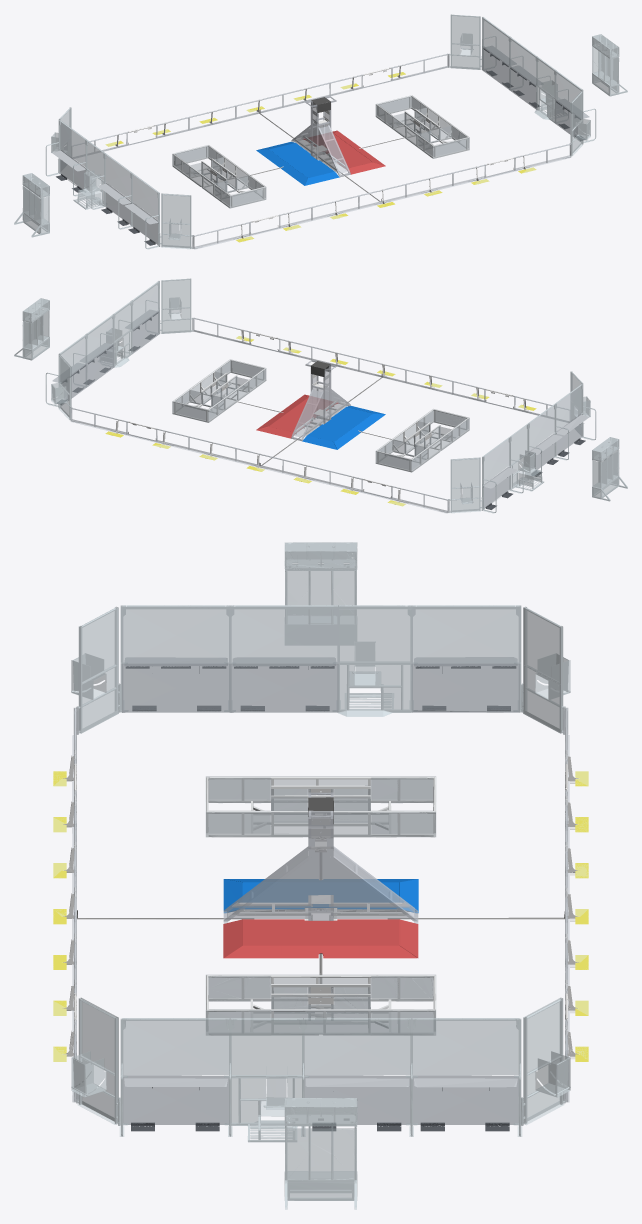
File: field-2018-2Xk3P7I0.glb
3 views of the same model, one above another, from view 1: azimuth 30°, elevation 25°; view 2: azimuth 150°, elevation 25°; view 3: azimuth 270°, elevation 25° (orthographic). The views are drawn at different scales.
Parts seen in each view (by area): view 1: GE-18004_Red, GE-18004_Blue, GE-18024, FE-00012 (×2), FE-00005-04, FE-00004-01, GE-18075, GE-18022, GE-18061_Blue, GE-18061_Red, FE-00004-06, FE-00050 (+3 smaller); view 2: GE-18004_Red, GE-18004_Blue, GE-18024, FE-00012 (×2), FE-00005-04, GE-18075, FE-00004-01, GE-18022, GE-18061_Blue, GE-18061_Red, FE-00004-06, FE-00050 (+3 smaller); view 3: FE-00012 (×2), FE-00004-01, GE-18004_Blue, GE-18004_Red, GE-18024, GE-18075, GE-18022, GE-18061_Red, FE-00004-06, GE-18061_Blue, FE-00015, FE-00005-04 (+4 smaller).
Boxes of the visible parts, x1,y1,x2,y2 form: GE-18004_Red: (14, 107, 193, 249); GE-18004_Blue: (448, 14, 627, 156); GE-18024: (172, 95, 469, 208); FE-00012 (×2): (60, 18, 581, 219); FE-00005-04: (72, 53, 571, 249); FE-00004-01: (60, 46, 580, 244); GE-18075: (173, 95, 469, 208); GE-18022: (291, 96, 350, 177); GE-18061_Blue: (256, 142, 339, 185); GE-18061_Red: (303, 130, 385, 174); FE-00004-06: (52, 46, 589, 224); FE-00050: (114, 64, 527, 241); GE-18004_Red: (448, 371, 627, 513); GE-18004_Blue: (14, 278, 193, 420); GE-18024: (172, 359, 469, 472); FE-00012 (×2): (60, 282, 581, 483); FE-00005-04: (70, 317, 569, 513); GE-18075: (172, 359, 468, 472); FE-00004-01: (61, 310, 581, 508); GE-18022: (291, 360, 350, 441); GE-18061_Blue: (302, 406, 385, 449); GE-18061_Red: (256, 394, 338, 438); FE-00004-06: (52, 309, 589, 488); FE-00050: (111, 328, 528, 504); FE-00012 (×2): (122, 607, 519, 1075); FE-00004-01: (122, 663, 519, 1124); GE-18004_Blue: (71, 997, 570, 1209); GE-18004_Red: (71, 542, 570, 734); GE-18024: (205, 776, 436, 1035); GE-18075: (206, 777, 435, 1035); GE-18022: (223, 792, 418, 923); GE-18061_Red: (223, 919, 418, 958); FE-00004-06: (124, 657, 517, 1087); GE-18061_Blue: (223, 879, 418, 913); FE-00015: (53, 771, 588, 1061); FE-00005-04: (72, 707, 569, 1102).
Bounding box in the file's own units: 23.24 × 2.14 × 9.04.
